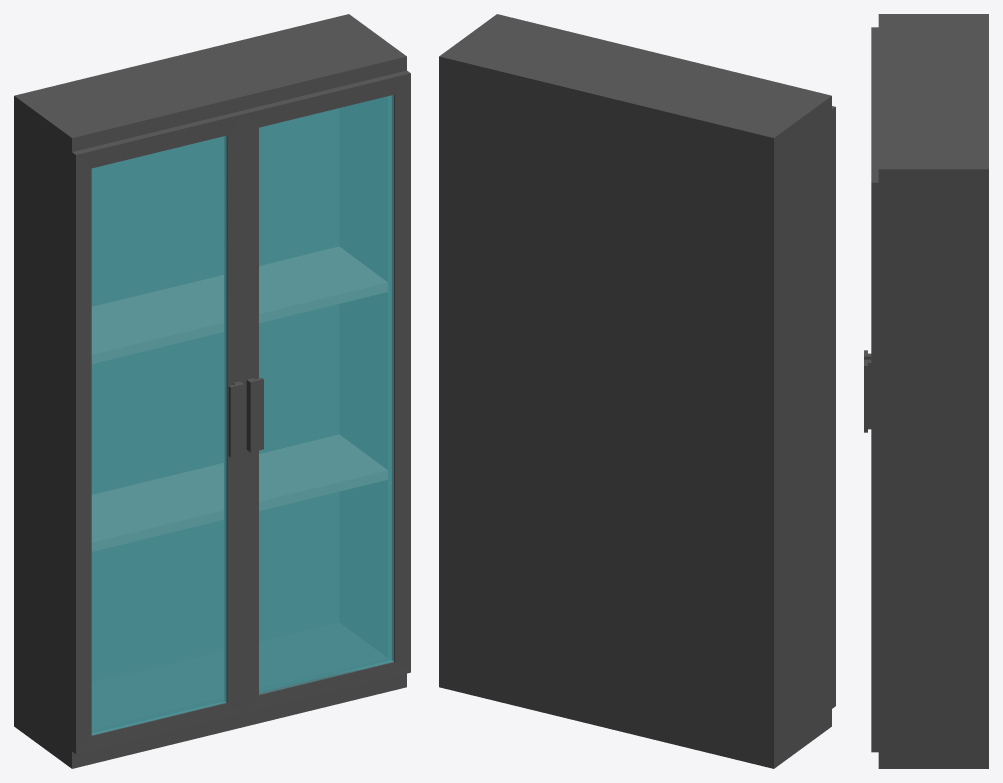
Rendered from Fridge.fbx.
The picture shows the model from 3 angles, left to right: view 1: azimuth 30°, elevation 25°; view 2: azimuth 150°, elevation 25°; view 3: azimuth 270°, elevation 25°; orthographic projection. The views are drawn at different scales.
Parts seen in each view (by area): view 1: Fridge, Glass, Glass.001, Left Door, Right Door; view 2: Fridge, Left Door; view 3: Fridge, Right Door, Left Door.
Part boxes in pixels (left/top/right/bottom): Fridge: left=14, top=14, right=406, bottom=768; Glass: left=91, top=135, right=226, bottom=735; Glass.001: left=259, top=95, right=393, bottom=694; Left Door: left=72, top=111, right=243, bottom=754; Right Door: left=240, top=70, right=410, bottom=713; Fridge: left=439, top=14, right=831, bottom=768; Left Door: left=832, top=106, right=835, bottom=708; Fridge: left=878, top=14, right=988, bottom=768; Right Door: left=864, top=105, right=878, bottom=752; Left Door: left=864, top=27, right=878, bottom=359.
Size of the model in its own units: 1000 by 1800 by 340.
